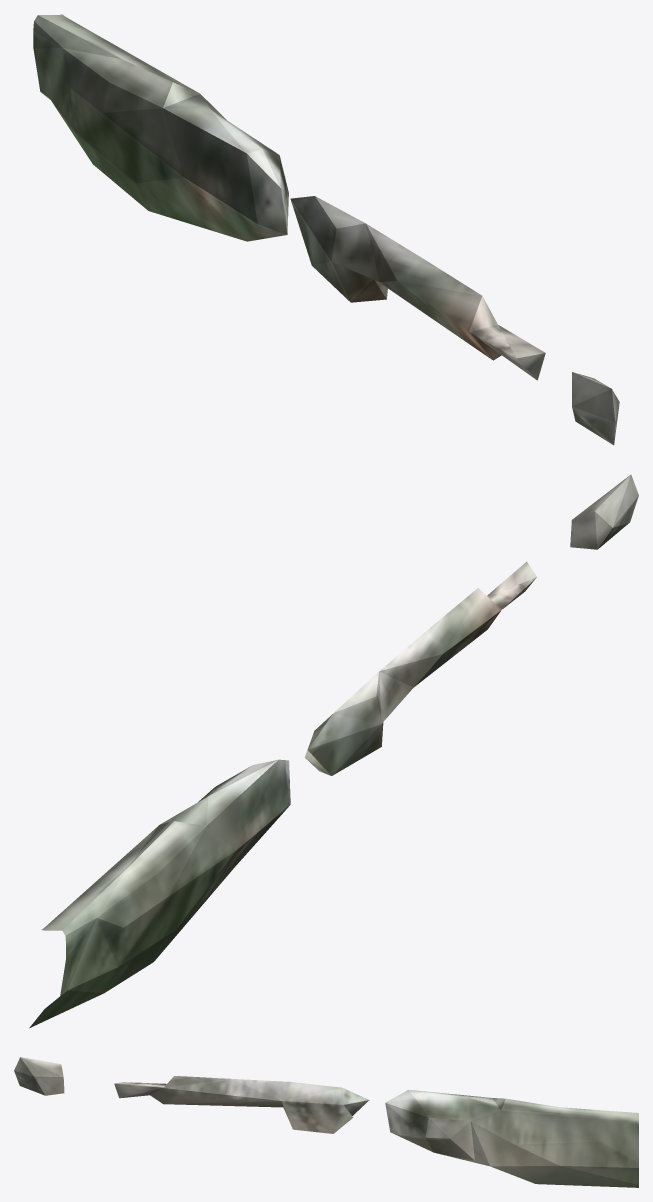
The picture shows the model from 3 angles, top to bottom: view 1: azimuth 30°, elevation 25°; view 2: azimuth 150°, elevation 25°; view 3: azimuth 270°, elevation 25°; orthographic projection. The views are drawn at different scales.
Size of the model in its own units: 0.3922 by 0.7199 by 3.77.
1 material, 1 textured.
